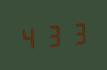four: (18, 23, 40, 51)
three: (42, 21, 64, 49), (65, 19, 87, 47)
